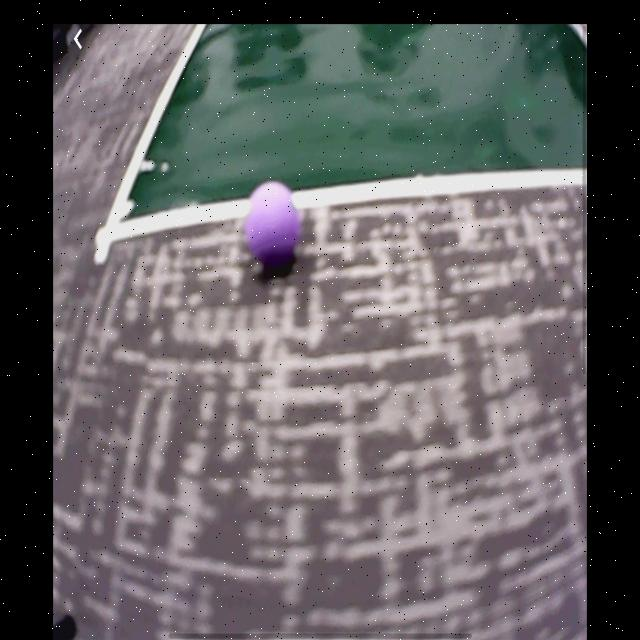ball: (244, 180, 303, 272)
